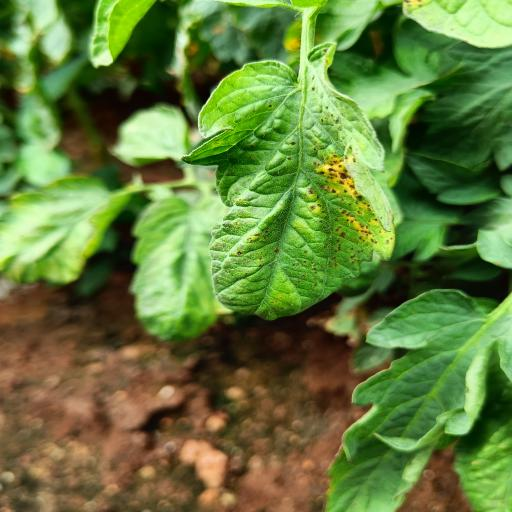Early Blight: (180, 51, 406, 324)
